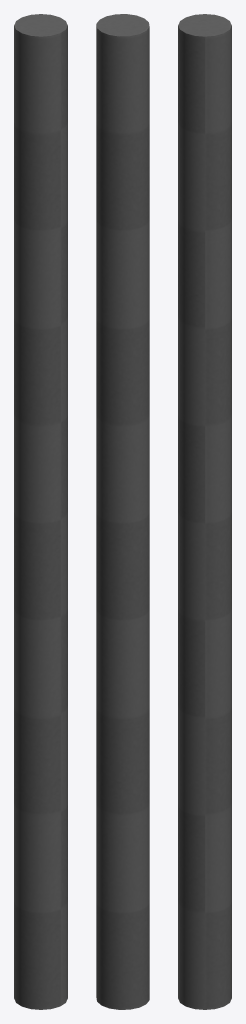
3 views of the same model, side by side, from view 1: azimuth 90°, elevation 25°; view 2: azimuth 150°, elevation 25°; view 3: azimuth 270°, elevation 25° (orthographic).
Visible parts, largest first — view 1: Cylinder_12B4BB37; view 2: Cylinder_12B4BB37; view 3: Cylinder_12B4BB37.
Boxes of the visible parts, <box> form: Cylinder_12B4BB37: <box>14,14,67,1009</box>; Cylinder_12B4BB37: <box>96,14,149,1009</box>; Cylinder_12B4BB37: <box>178,14,231,1009</box>.
Bounding box in the file's own units: 10 × 200 × 10.
Materials: 1 (1 with a texture image).
